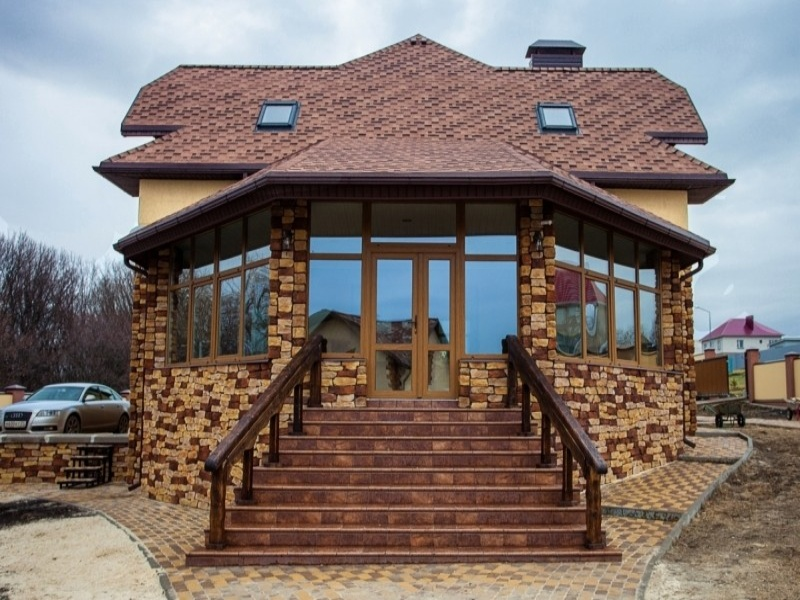window: (544, 229, 664, 360), (171, 241, 279, 359), (463, 235, 520, 418), (307, 235, 364, 406), (535, 100, 588, 132), (254, 96, 303, 125)
